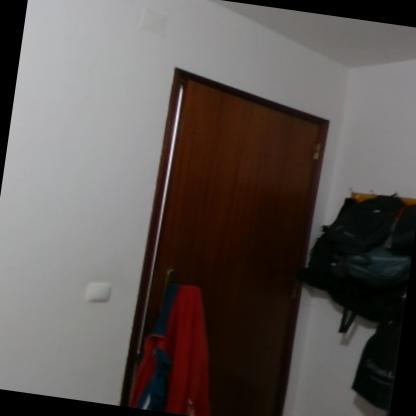closed: (114, 66, 354, 415)
